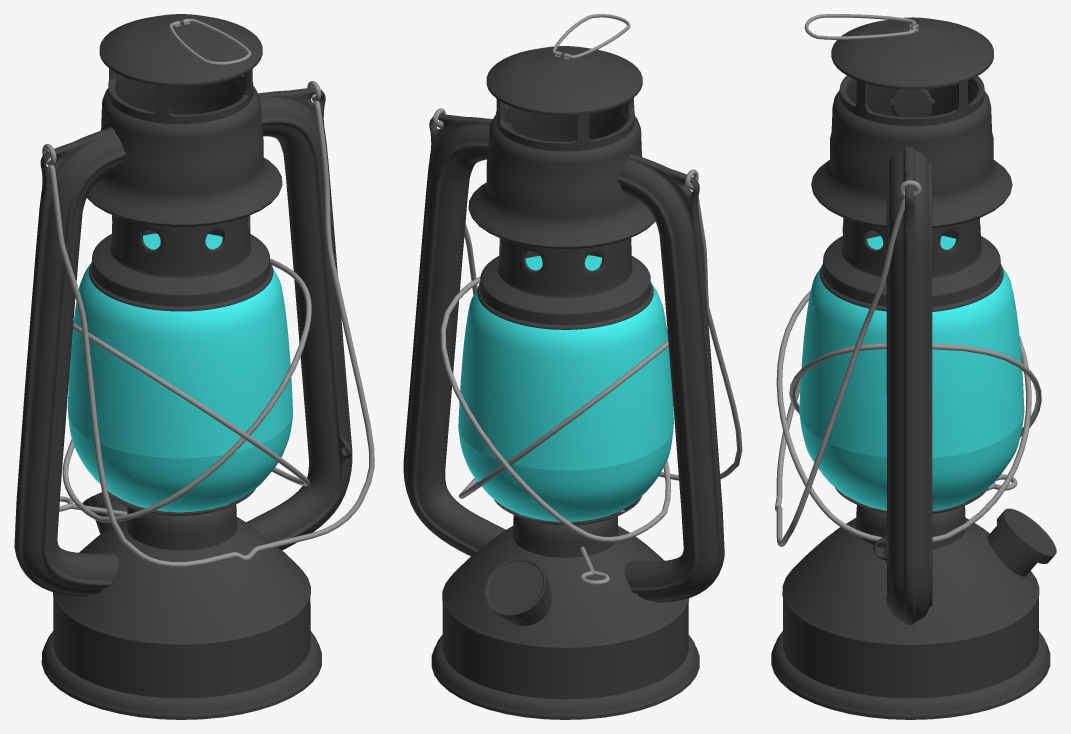
Rendered from LamparaQueroseno.fbx.
3 renders of one model, left to right at view 1: azimuth 30°, elevation 25°; view 2: azimuth 150°, elevation 25°; view 3: azimuth 270°, elevation 25°, orthographic. The views are drawn at different scales.
Visible parts, largest first — view 1: Base001, Vidrio001, Brazo IZQ001, Brazo DER001, Cupula001, Arriba del vidrio001, Techo001, Sujetador001, Aro 004, Top cupula001, Aro 003, Manija superior001 (+1 smaller); view 2: Vidrio001, Base001, Brazo IZQ001, Brazo DER001, Cupula001, Arriba del vidrio001, Techo001, Regulador001, Aro 004, Top cupula001, Sujetador001, Aro 003 (+2 smaller); view 3: Base001, Vidrio001, Brazo DER001, Cupula001, Arriba del vidrio001, Techo001, Sujetador001, Aro 003, Top cupula001, Regulador001, Aro 004, Brazo IZQ001 (+2 smaller).
Part boxes in pixels (x1,y1,x2,y2): Base001: (41, 504, 321, 719); Vidrio001: (67, 233, 292, 512); Brazo IZQ001: (14, 127, 126, 596); Brazo DER001: (239, 87, 352, 550); Cupula001: (87, 79, 282, 226); Arriba del vidrio001: (88, 215, 273, 311); Techo001: (99, 14, 262, 86); Sujetador001: (42, 81, 374, 567); Aro 004: (62, 258, 311, 522); Top cupula001: (108, 68, 253, 124); Aro 003: (73, 323, 309, 486); Manija superior001: (169, 18, 251, 65); Vidrio001: (458, 255, 673, 521); Base001: (431, 515, 699, 719); Brazo IZQ001: (617, 153, 724, 602); Brazo DER001: (403, 114, 515, 556); Cupula001: (468, 108, 655, 248); Arriba del vidrio001: (477, 238, 653, 329); Techo001: (486, 46, 642, 115); Regulador001: (484, 558, 549, 620); Aro 004: (440, 276, 670, 542); Top cupula001: (496, 98, 634, 151); Sujetador001: (432, 108, 742, 480); Aro 003: (459, 330, 668, 498); Base001: (771, 505, 1050, 719); Vidrio001: (799, 236, 1024, 510); Brazo DER001: (873, 147, 932, 624); Cupula001: (811, 84, 1012, 228); Arriba del vidrio001: (820, 217, 1003, 311); Techo001: (831, 17, 993, 89); Sujetador001: (775, 180, 921, 546); Aro 003: (776, 290, 1031, 542); Top cupula001: (839, 75, 984, 126); Regulador001: (996, 508, 1056, 563); Aro 004: (789, 343, 1041, 437); Brazo IZQ001: (889, 89, 934, 117).
Size of the model in its own units: 7.25 by 13.25 by 5.39.
